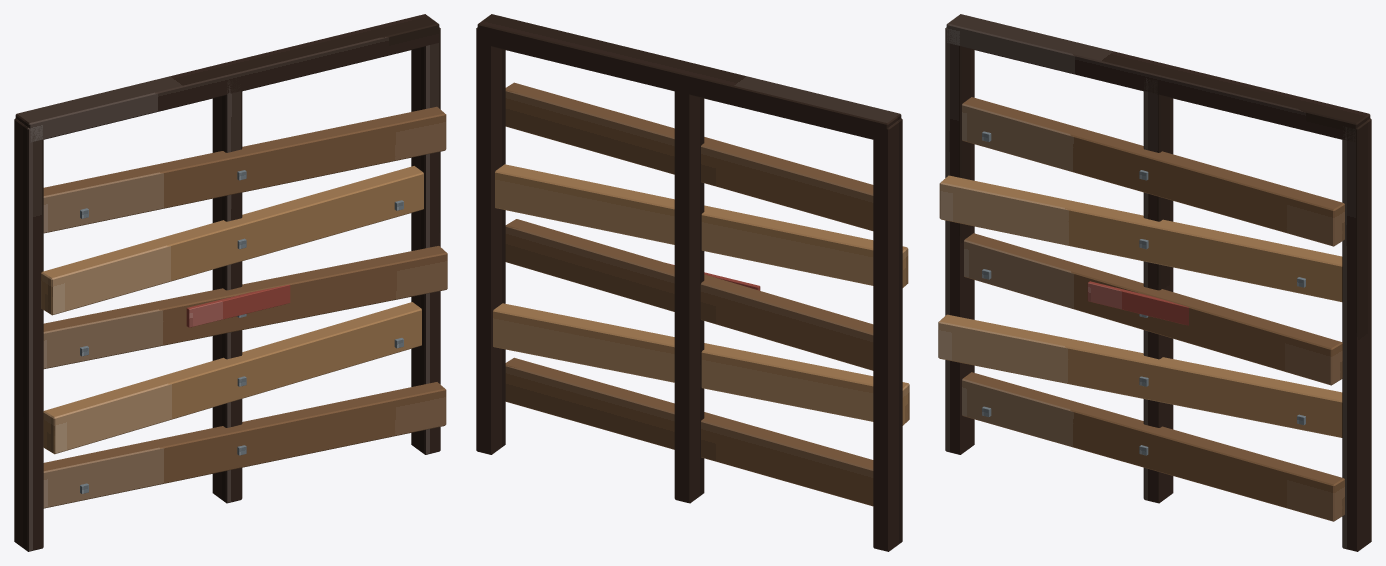
Rendered from boarded_hallway.glb.
The picture shows the model from 3 angles, left to right: view 1: azimuth 30°, elevation 25°; view 2: azimuth 150°, elevation 25°; view 3: azimuth 330°, elevation 25°; orthographic projection.
Parts seen in each view (by area): view 1: HallBoard_04, HallBoard_00, HallBoard_03, HallBoard_01, HallBoard_02, HallHeader, HallPost_-1.45, HallPost_1.45, HallPost_0, HallWarning; view 2: HallBoard_01, HallBoard_03, HallBoard_02, HallBoard_04, HallBoard_00, HallHeader, HallPost_-1.45, HallPost_0, HallPost_1.45; view 3: HallBoard_01, HallBoard_03, HallBoard_04, HallBoard_00, HallBoard_02, HallHeader, HallPost_1.45, HallPost_-1.45, HallPost_0, HallWarning.
Part boxes in pixels (x1=…): HallBoard_04: x1=43, y1=106, x2=446, y2=233; HallBoard_00: x1=43, y1=382, x2=446, y2=508; HallBoard_03: x1=41, y1=166, x2=423, y2=315; HallBoard_01: x1=43, y1=302, x2=421, y2=454; HallBoard_02: x1=43, y1=246, x2=447, y2=368; HallHeader: x1=15, y1=14, x2=439, y2=142; HallPost_-1.45: x1=14, y1=118, x2=43, y2=551; HallPost_1.45: x1=411, y1=27, x2=440, y2=454; HallPost_0: x1=212, y1=80, x2=242, y2=503; HallWarning: x1=186, y1=284, x2=290, y2=327; HallBoard_01: x1=493, y1=303, x2=909, y2=425; HallBoard_03: x1=495, y1=164, x2=908, y2=287; HallBoard_02: x1=505, y1=219, x2=873, y2=370; HallBoard_04: x1=505, y1=82, x2=873, y2=230; HallBoard_00: x1=505, y1=357, x2=873, y2=506; HallHeader: x1=477, y1=14, x2=901, y2=142; HallPost_-1.45: x1=873, y1=118, x2=902, y2=551; HallPost_0: x1=674, y1=78, x2=704, y2=503; HallPost_1.45: x1=476, y1=27, x2=505, y2=454; HallBoard_01: x1=938, y1=314, x2=1342, y2=437; HallBoard_03: x1=939, y1=175, x2=1342, y2=301; HallBoard_04: x1=962, y1=97, x2=1344, y2=246; HallBoard_00: x1=962, y1=372, x2=1344, y2=521; HallBoard_02: x1=964, y1=233, x2=1342, y2=385; HallHeader: x1=946, y1=14, x2=1370, y2=141; HallPost_1.45: x1=1342, y1=118, x2=1371, y2=551; HallPost_-1.45: x1=945, y1=27, x2=974, y2=454; HallPost_0: x1=1143, y1=78, x2=1173, y2=503; HallWarning: x1=1087, y1=281, x2=1188, y2=325.
Bounding box in the file's own units: 3.02 × 2.99 × 0.3904.
Materials: 1 (1 with a texture image).
